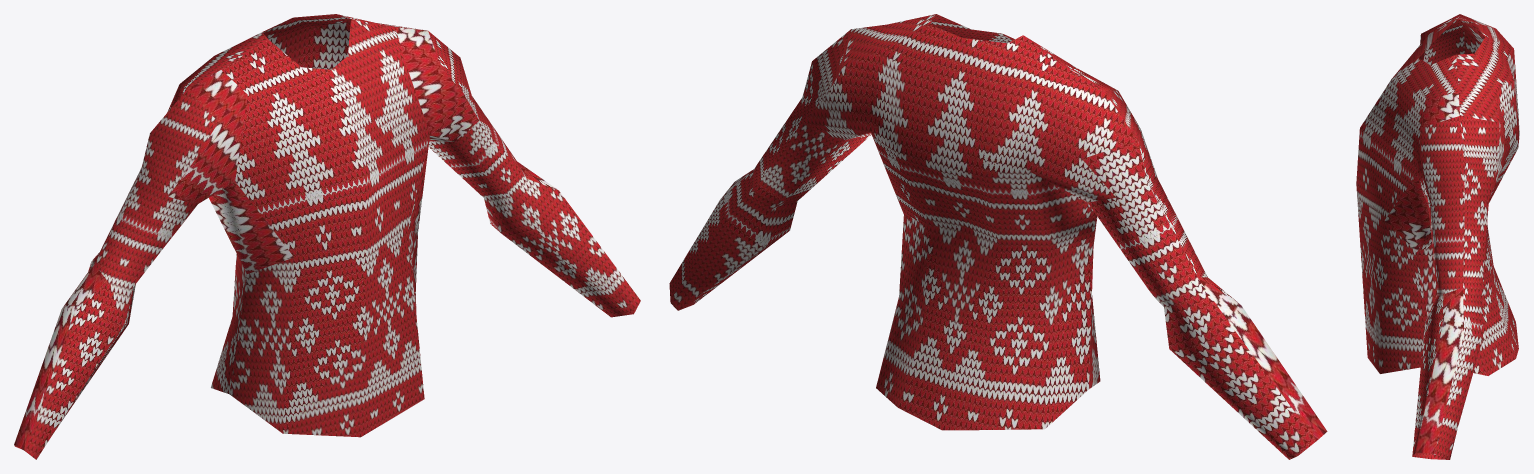
The model's file is sweater1.fbx.
3 renders of one model, left to right at view 1: azimuth 30°, elevation 25°; view 2: azimuth 150°, elevation 25°; view 3: azimuth 270°, elevation 25°, orthographic. The views are drawn at different scales.
Parts seen in each view (by area): view 1: Cube; view 2: Cube; view 3: Cube.
Boxes of the visible parts, x1,y1,x2,y2 form: Cube: [14, 14, 640, 459]; Cube: [669, 14, 1327, 459]; Cube: [1356, 14, 1519, 459].
Size of the model in its own units: 243 by 139 by 64.35.
Materials: 1 (1 with a texture image).
